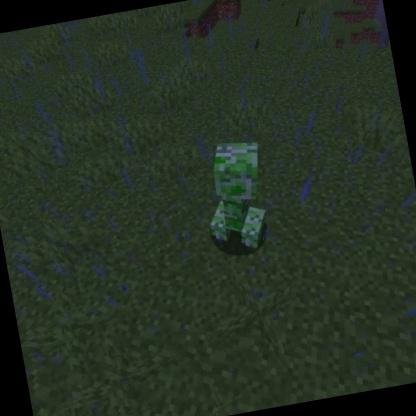creeper: (192, 133, 282, 261)
